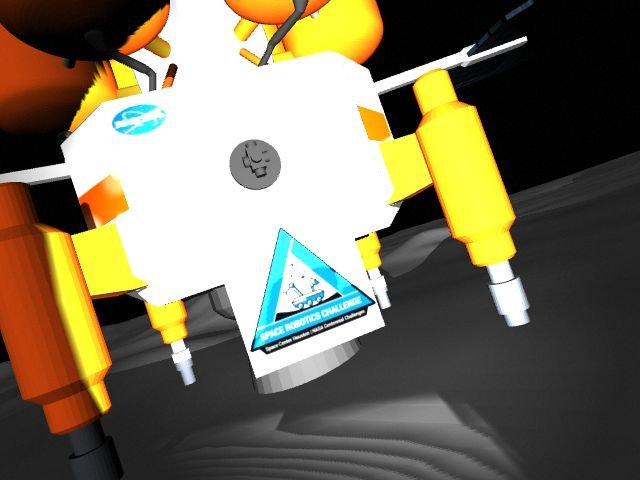basemarker: (250, 227, 377, 355)
